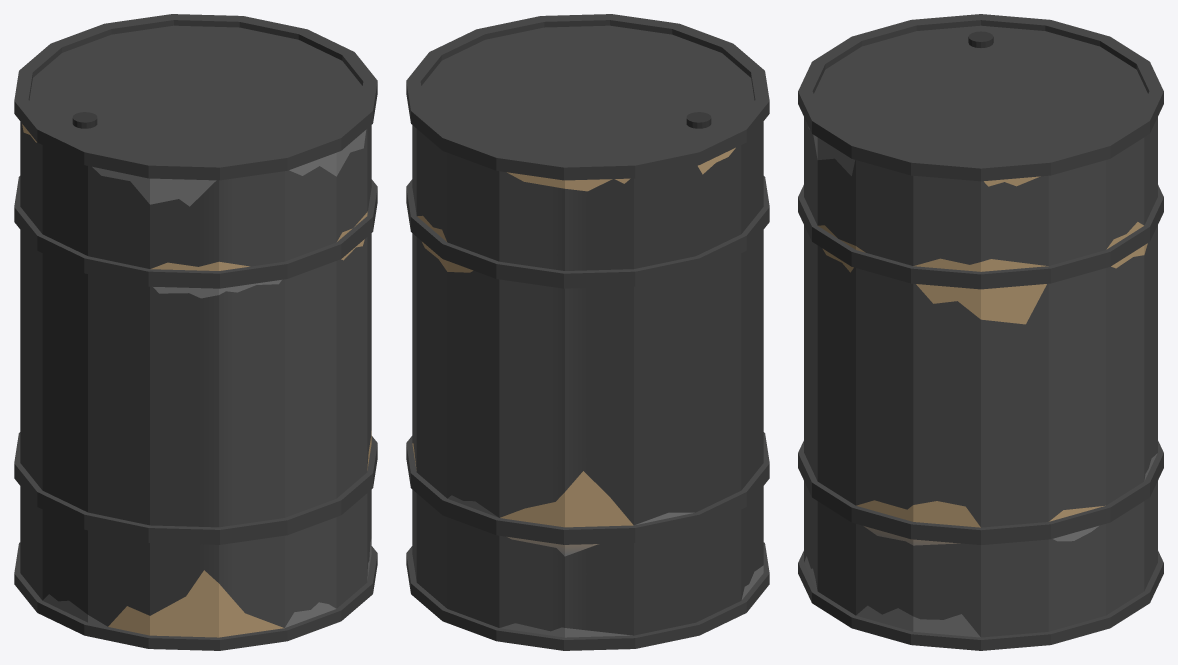
The model's file is Barrel_01.fbx.
3 renders of one model, left to right at view 1: azimuth 30°, elevation 25°; view 2: azimuth 150°, elevation 25°; view 3: azimuth 270°, elevation 25°, orthographic.
Visible parts, largest first — view 1: Barrel_01; view 2: Barrel_01; view 3: Barrel_01.
Part boxes in pixels (<box>): Barrel_01: <box>14,14,377,650</box>; Barrel_01: <box>406,14,769,650</box>; Barrel_01: <box>798,14,1163,650</box>.
Bounding box in the file's own units: 60.96 × 88.75 × 60.96.
